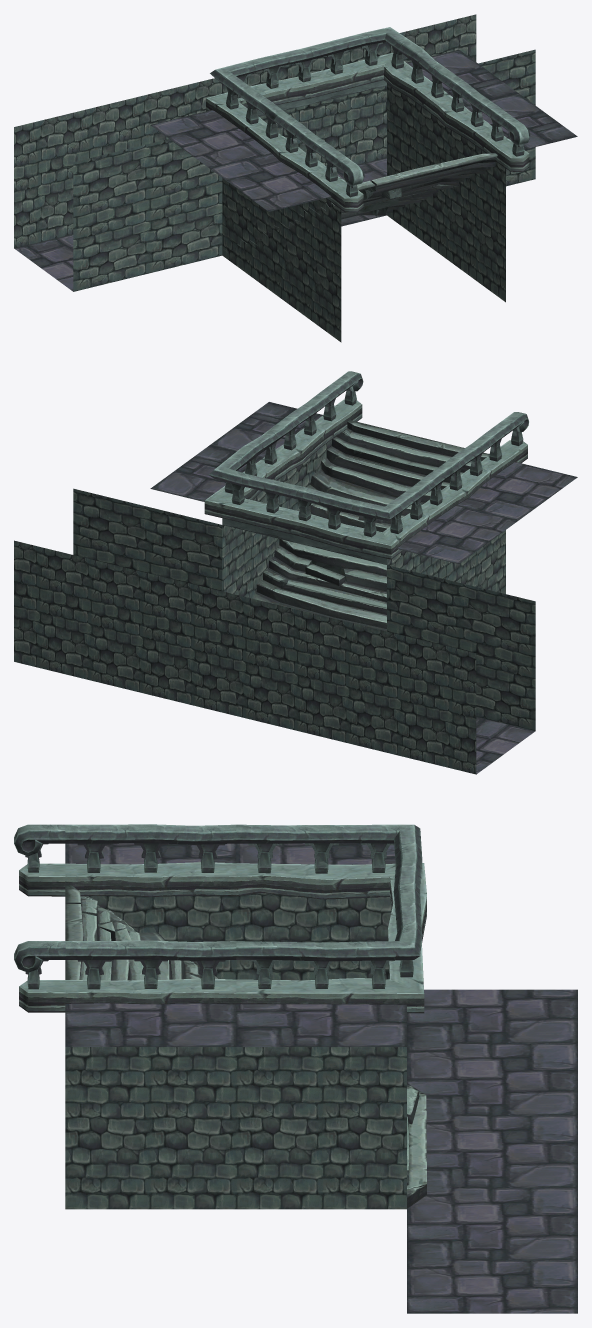
The model's file is crypt_exit_stairs_02.fbx.
3 renders of one model, top to bottom at view 1: azimuth 30°, elevation 25°; view 2: azimuth 150°, elevation 25°; view 3: azimuth 270°, elevation 25°, orthographic. The views are drawn at different scales.
Visible parts, largest first — view 1: crypt_exit_stairs_02-0; view 2: crypt_exit_stairs_02-0; view 3: crypt_exit_stairs_02-0.
Boxes of the visible parts, box(x1,y1,x2,y2) form: crypt_exit_stairs_02-0: box(14, 14, 577, 342); crypt_exit_stairs_02-0: box(14, 371, 577, 774); crypt_exit_stairs_02-0: box(14, 824, 577, 1313).
Size of the model in its own units: 17.96 by 6.88 by 13.2.
